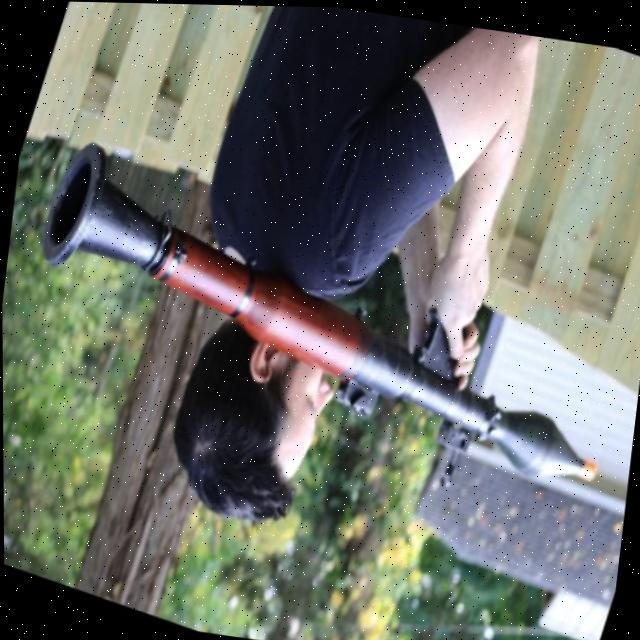rocket: (1, 124, 640, 498)
